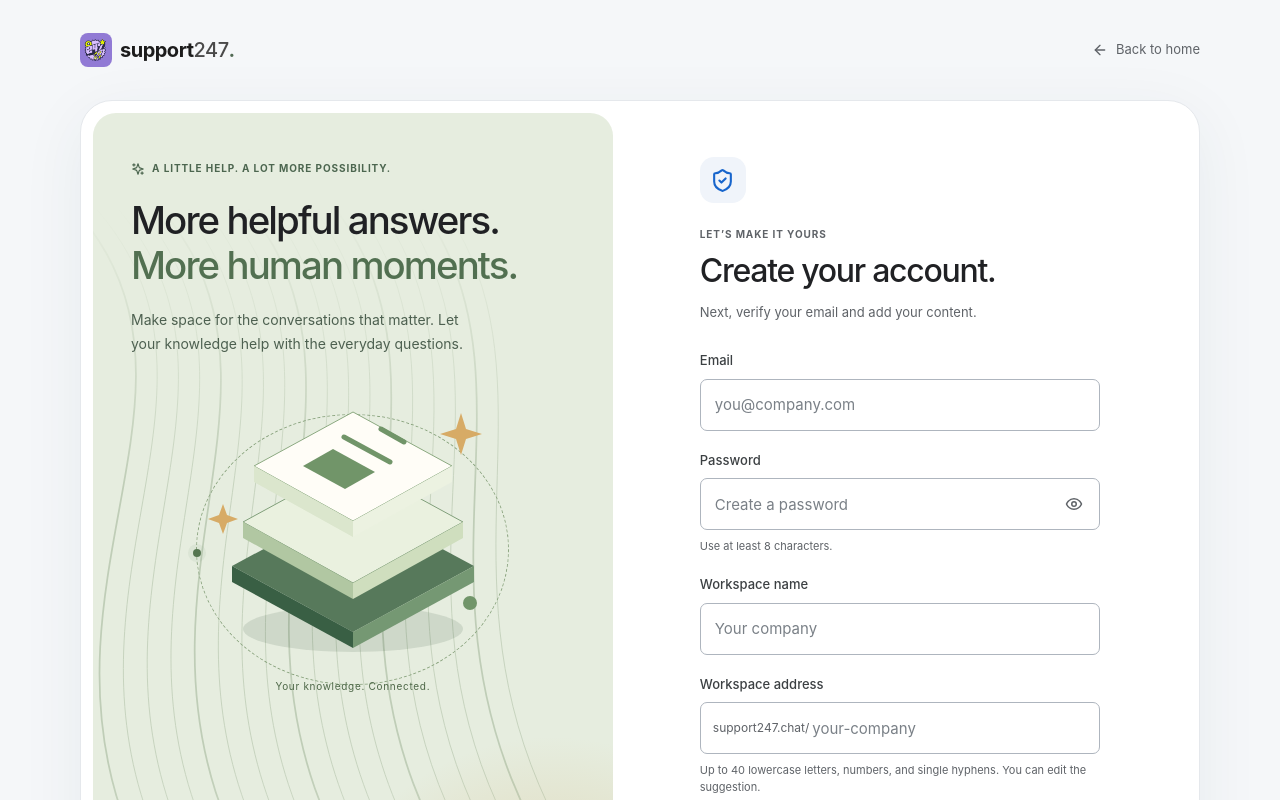
Test: Homepage5 registration › shows a network failure without discarding input
The width and height of the screenshot is (1280, 800).
In the field labelled "Email": point(900, 405) [700,379,1100,431], type "test@example.com"
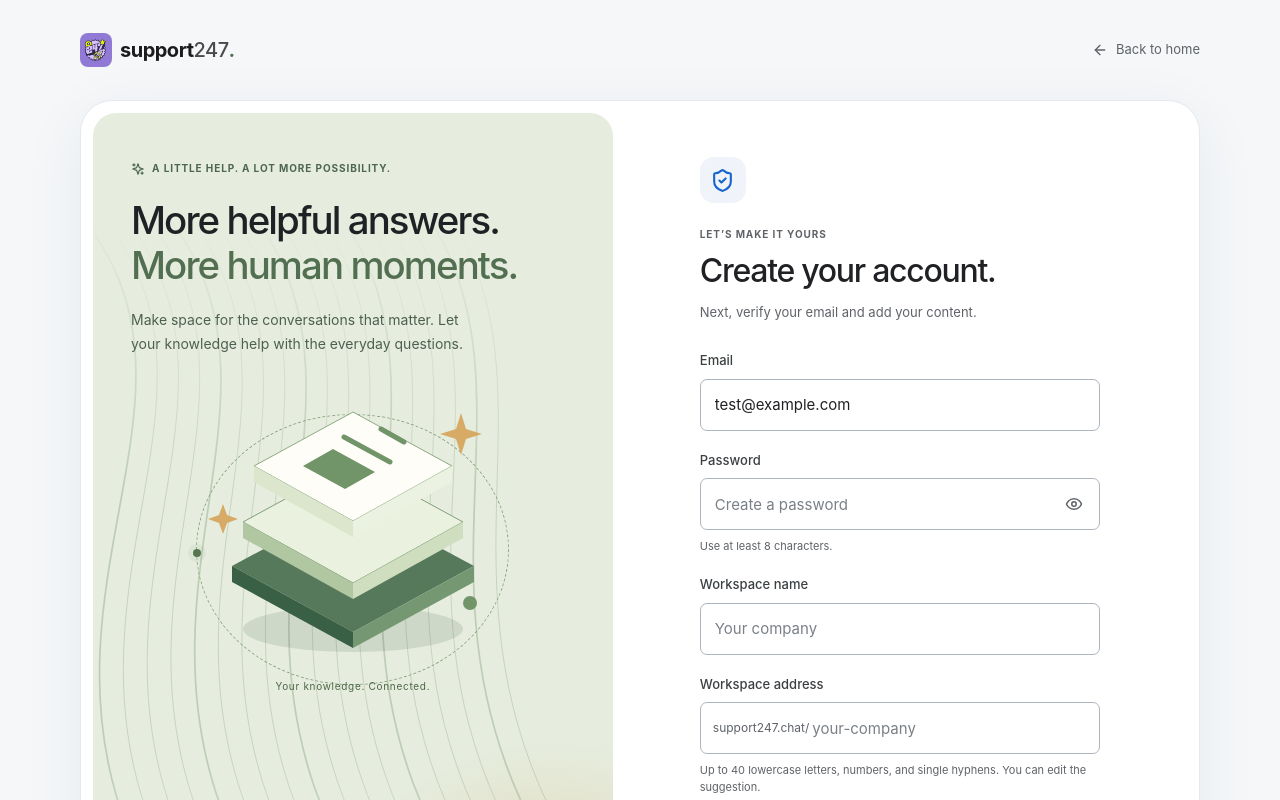
In the password field labelled "Password": point(900, 504) [700,478,1100,530], type "test-password"
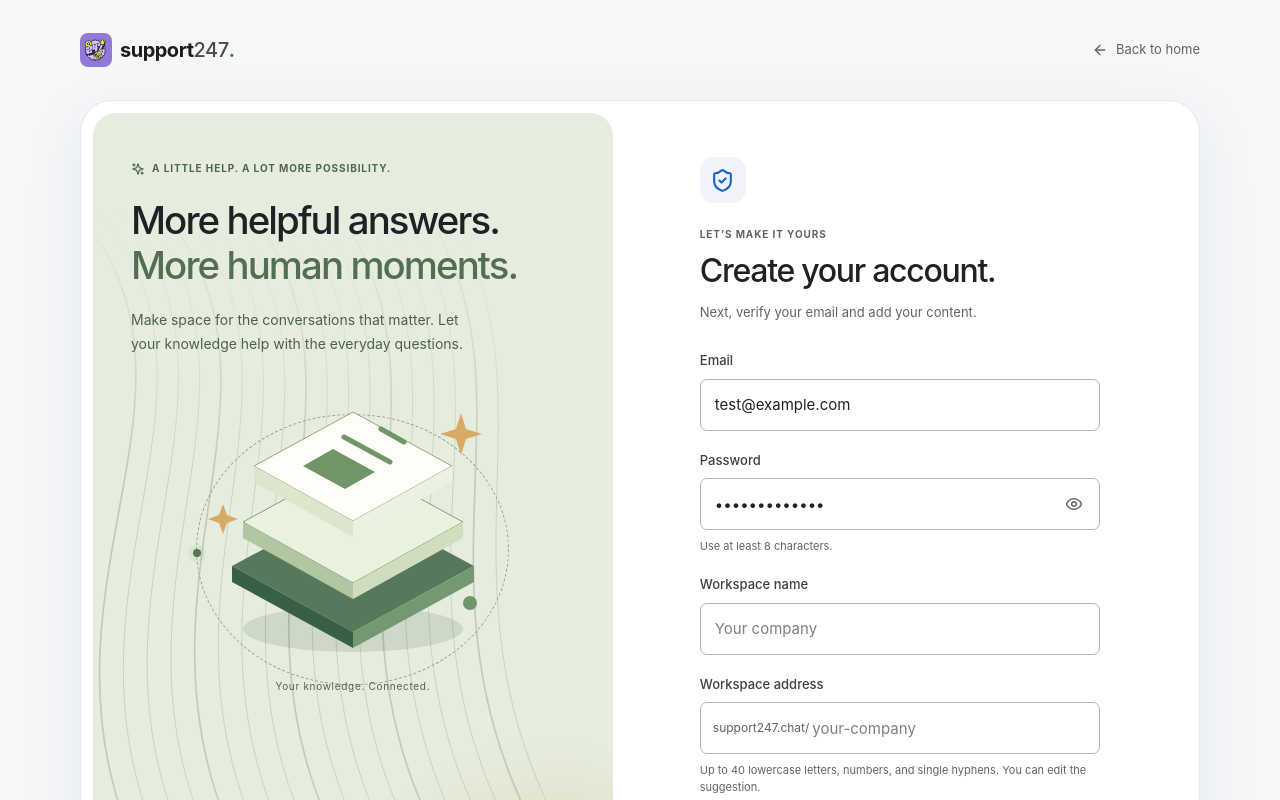
In the field labelled "Workspace name": point(900, 629) [700,603,1100,655], type "Fern & Field"
(page scrolled)
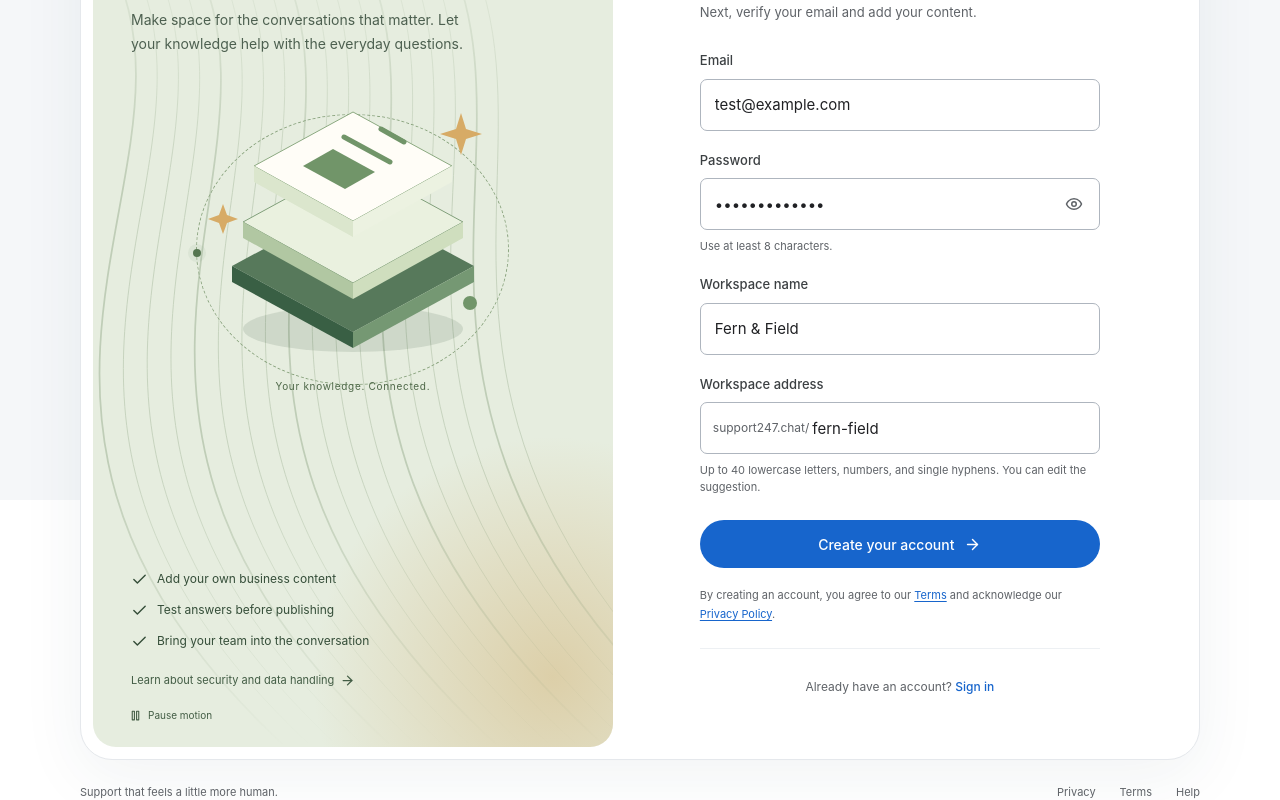
Click the button "Create your account": point(900, 544) [700,520,1100,568]
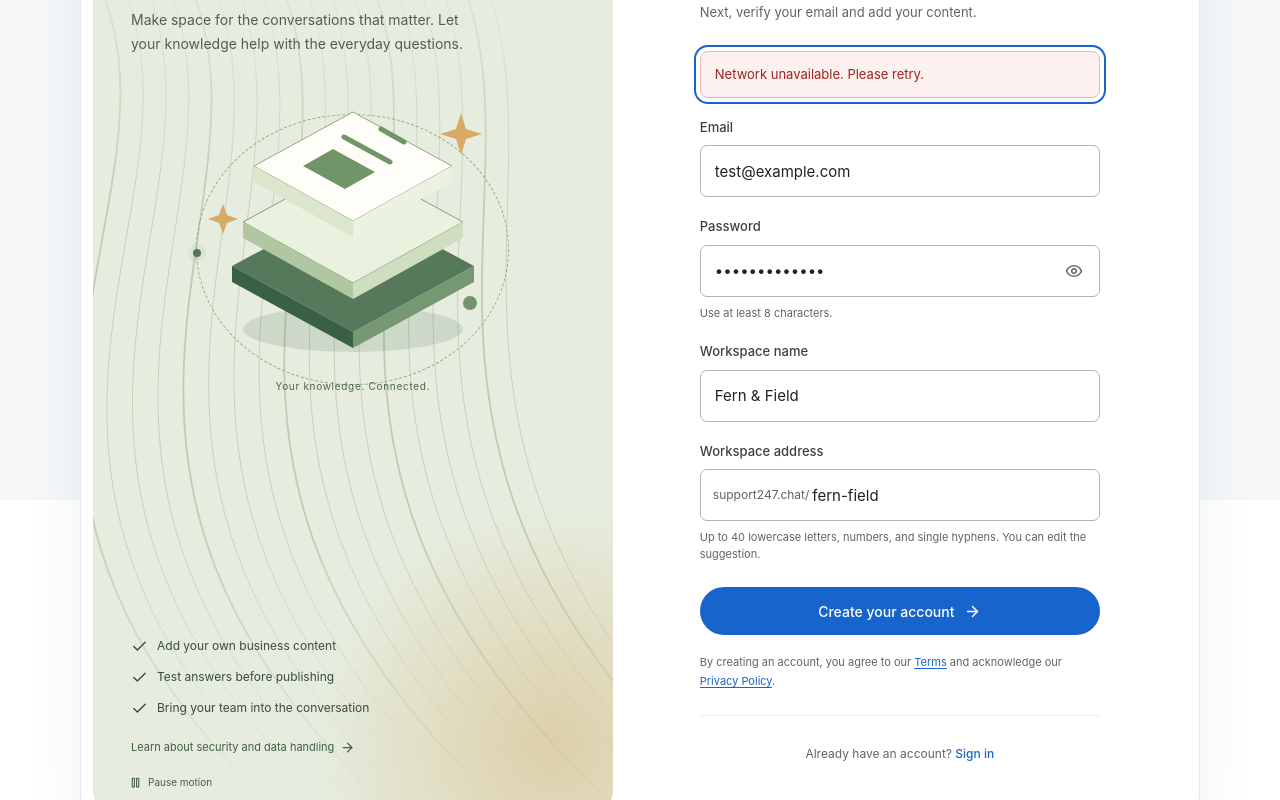
Check: the message shows "Network unavailable", box [715,66,924,82]
